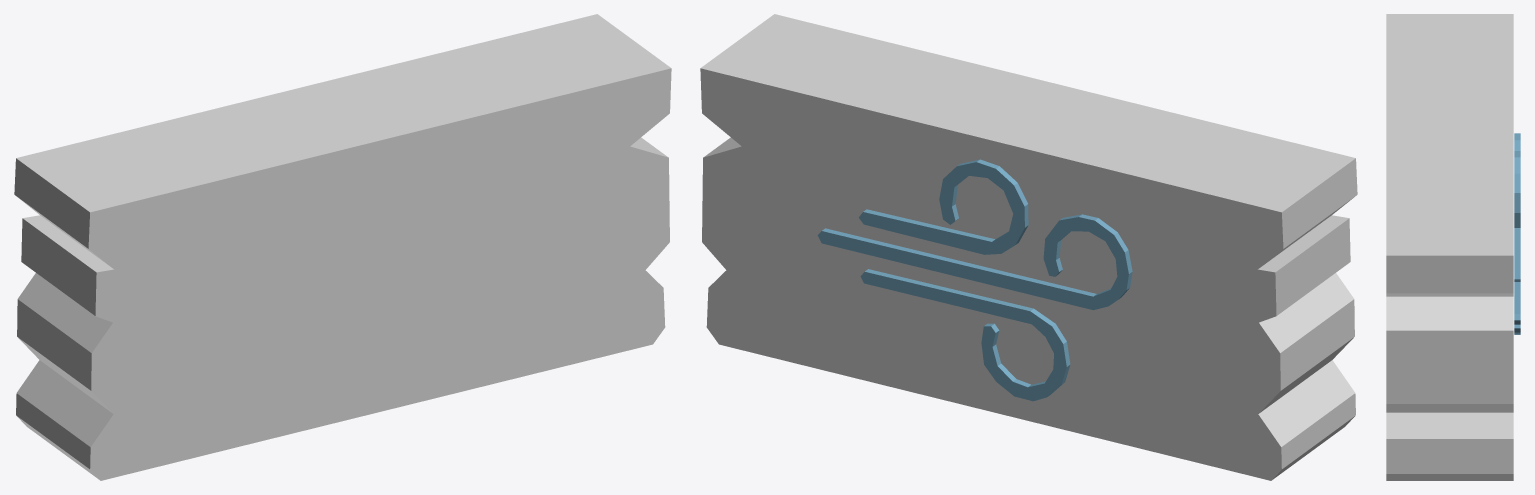
Rendered from Air_Symbol.glb.
3 views of the same model, side by side, from view 1: azimuth 30°, elevation 25°; view 2: azimuth 150°, elevation 25°; view 3: azimuth 270°, elevation 25° (orthographic). The views are drawn at different scales.
Parts seen in each view (by area): view 1: Board; view 2: Board, Plane; view 3: Board, Plane.
Boxes of the visible parts, x1,y1,x2,y2 form: Board: [14, 14, 671, 480]; Board: [700, 14, 1357, 480]; Plane: [817, 159, 1132, 401]; Board: [1386, 14, 1513, 480]; Plane: [1514, 133, 1520, 334].
Bounding box in the file's own units: 6.7 × 3 × 1.56.
